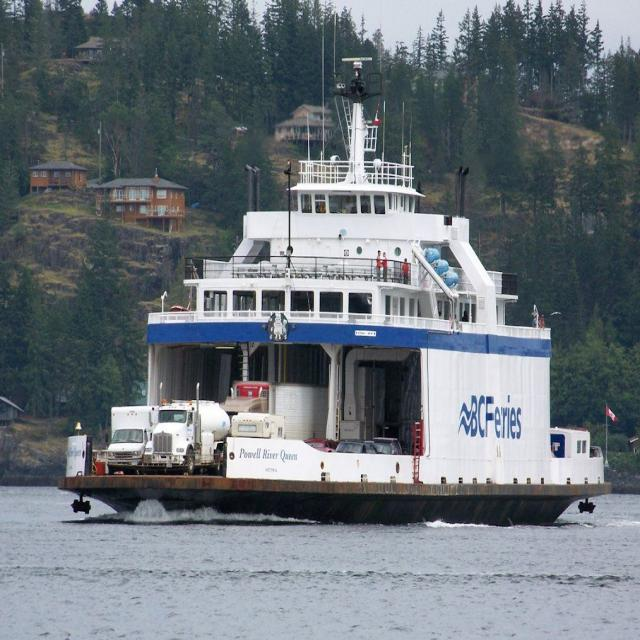boat: (42, 81, 620, 544)
